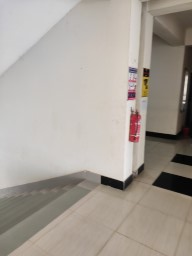fire_extinguisher: (83, 67, 107, 84)
